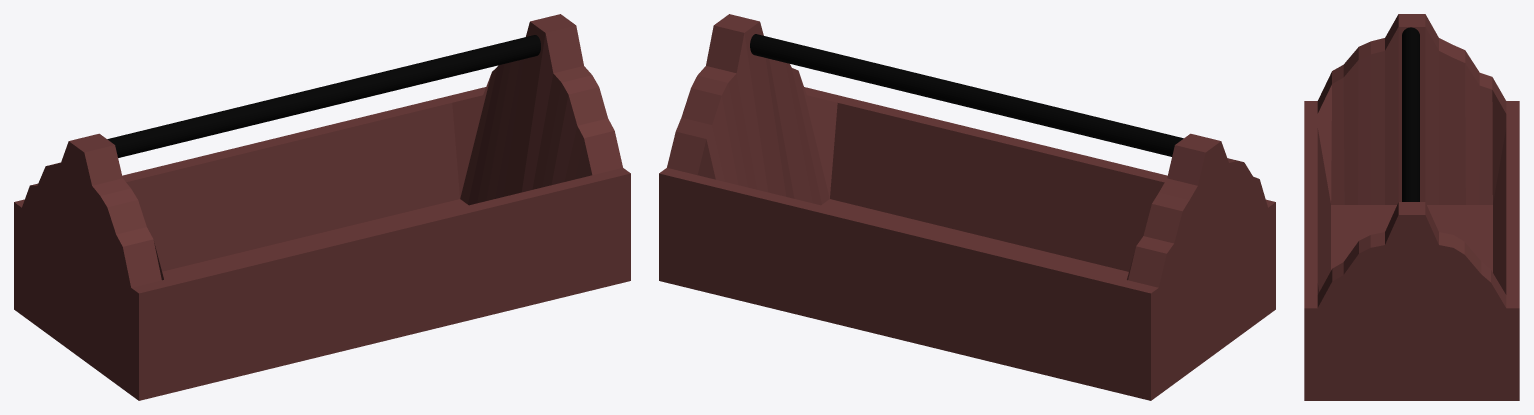
File: ToolHolder.fbx
The picture shows the model from 3 angles, left to right: view 1: azimuth 30°, elevation 25°; view 2: azimuth 150°, elevation 25°; view 3: azimuth 270°, elevation 25°; orthographic projection. The views are drawn at different scales.
Parts seen in each view (by area): view 1: ToolHolder; view 2: ToolHolder; view 3: ToolHolder.
Boxes of the visible parts, x1,y1,x2,y2 form: ToolHolder: (14, 14, 630, 400); ToolHolder: (659, 14, 1275, 400); ToolHolder: (1304, 14, 1519, 400).
Bounding box in the file's own units: 577 × 254 × 241.
